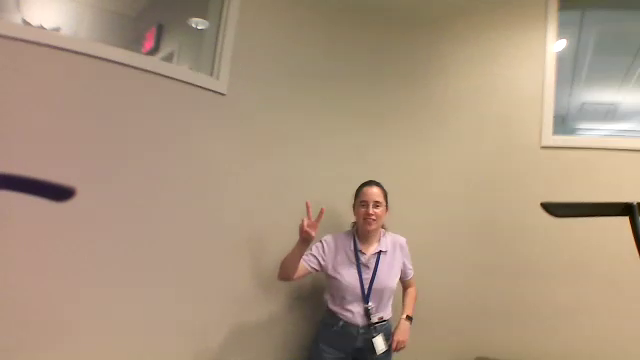peace: (292, 191, 328, 244)
